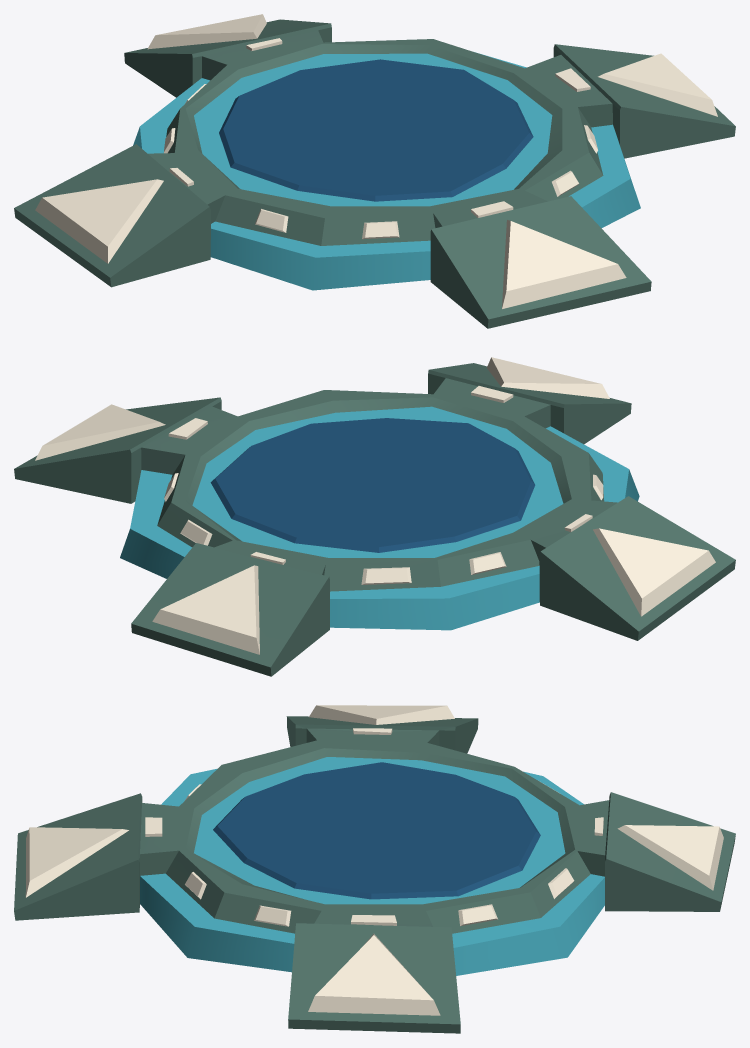
Rendered from shs_generic_teleporter.fbx.
The picture shows the model from 3 angles, top to bottom: view 1: azimuth 30°, elevation 25°; view 2: azimuth 150°, elevation 25°; view 3: azimuth 270°, elevation 25°; orthographic projection.
Visible parts, largest first — view 1: shs_generic_teleporter; view 2: shs_generic_teleporter; view 3: shs_generic_teleporter.
Part boxes in pixels (x1,y1,x2,y2): shs_generic_teleporter: (14, 14, 735, 328); shs_generic_teleporter: (14, 357, 735, 676); shs_generic_teleporter: (14, 705, 735, 1033).
Bounding box in the file's own units: 2.6 × 0.2155 × 2.57.
